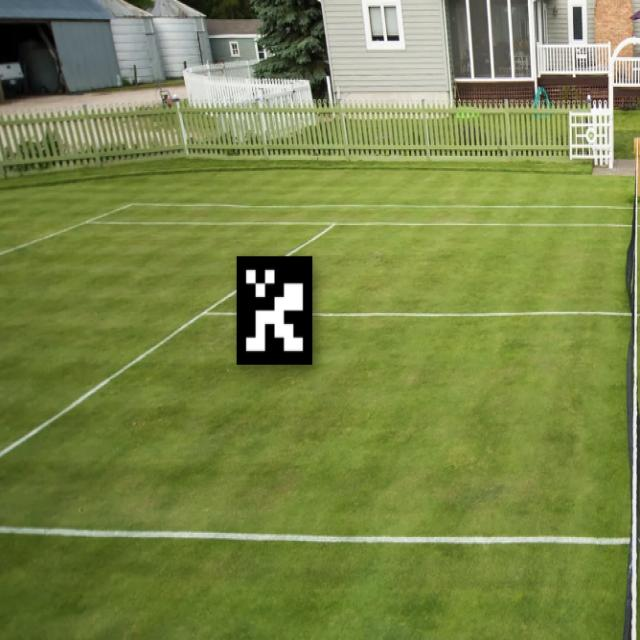marker: (232, 239, 324, 376)
